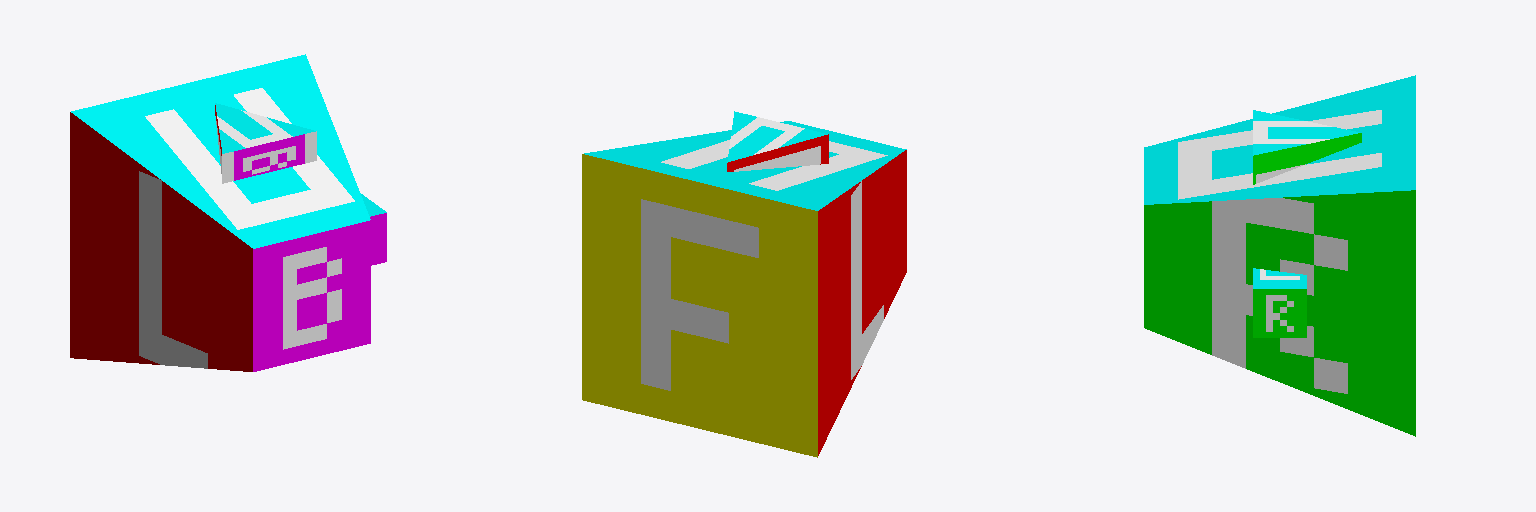
The picture shows the model from 3 angles: view 1: azimuth 30°, elevation 25°; view 2: azimuth 150°, elevation 25°; view 3: azimuth 270°, elevation 25°; orthographic projection.
Visible parts, largest first — view 1: Cube; view 2: Cube; view 3: Cube.
Boxes of the visible parts, <box> form: Cube: <box>70,54,386,371</box>; Cube: <box>582,111,906,457</box>; Cube: <box>1144,75,1415,436</box>.
Size of the model in its own units: 1 by 1 by 1.
1 materials, 1 textured.